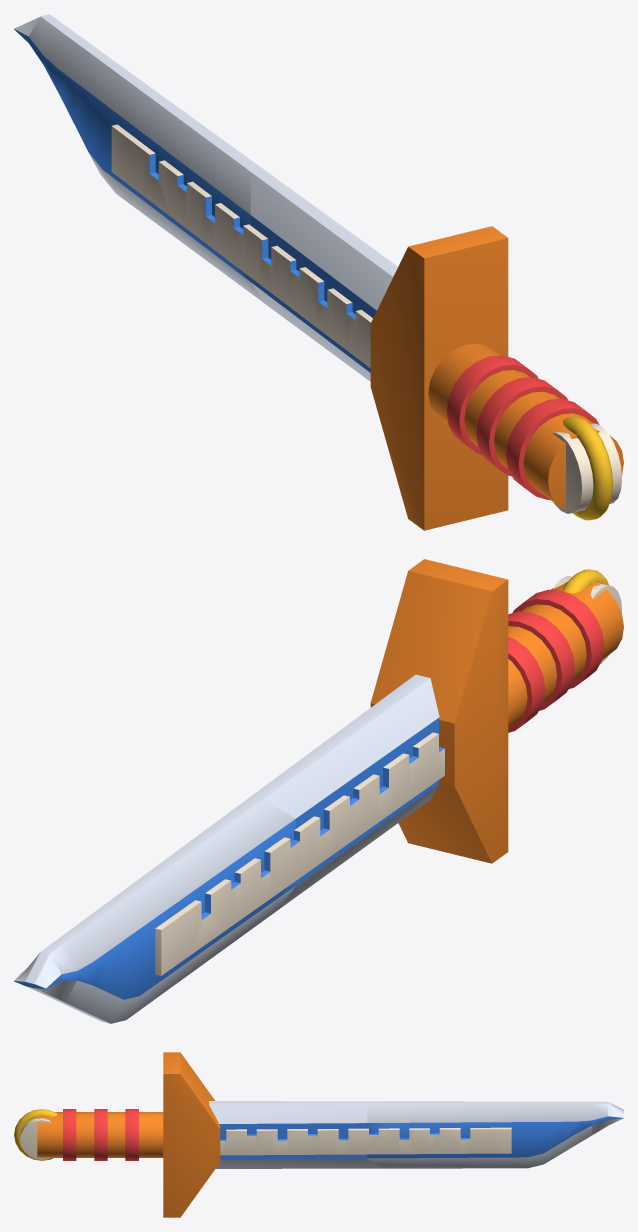
The model's file is Sword_ForemansLongsword.glb.
The picture shows the model from 3 angles, top to bottom: view 1: azimuth 30°, elevation 25°; view 2: azimuth 150°, elevation 25°; view 3: azimuth 270°, elevation 25°; orthographic projection. The views are drawn at different scales.
Parts seen in each view (by area): view 1: Sword_ForemansLongsword; view 2: Sword_ForemansLongsword; view 3: Sword_ForemansLongsword.
Part boxes in pixels (x1=…): Sword_ForemansLongsword: x1=14, y1=14, x2=623, y2=530; Sword_ForemansLongsword: x1=14, y1=559, x2=623, y2=1023; Sword_ForemansLongsword: x1=14, y1=1052, x2=623, y2=1217.
Size of the model in its own units: 0.086 by 0.26 by 1.
1 material, 1 textured.
